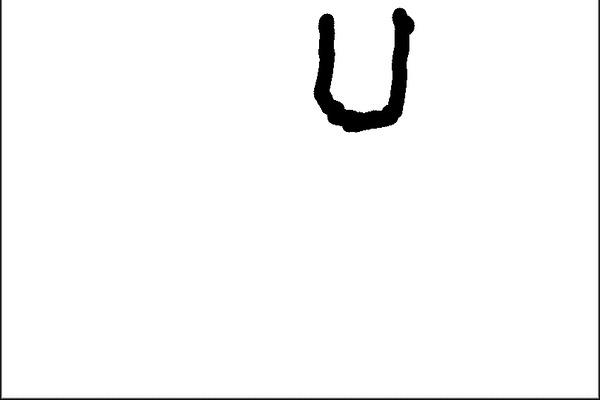U: (302, 6, 425, 143)
